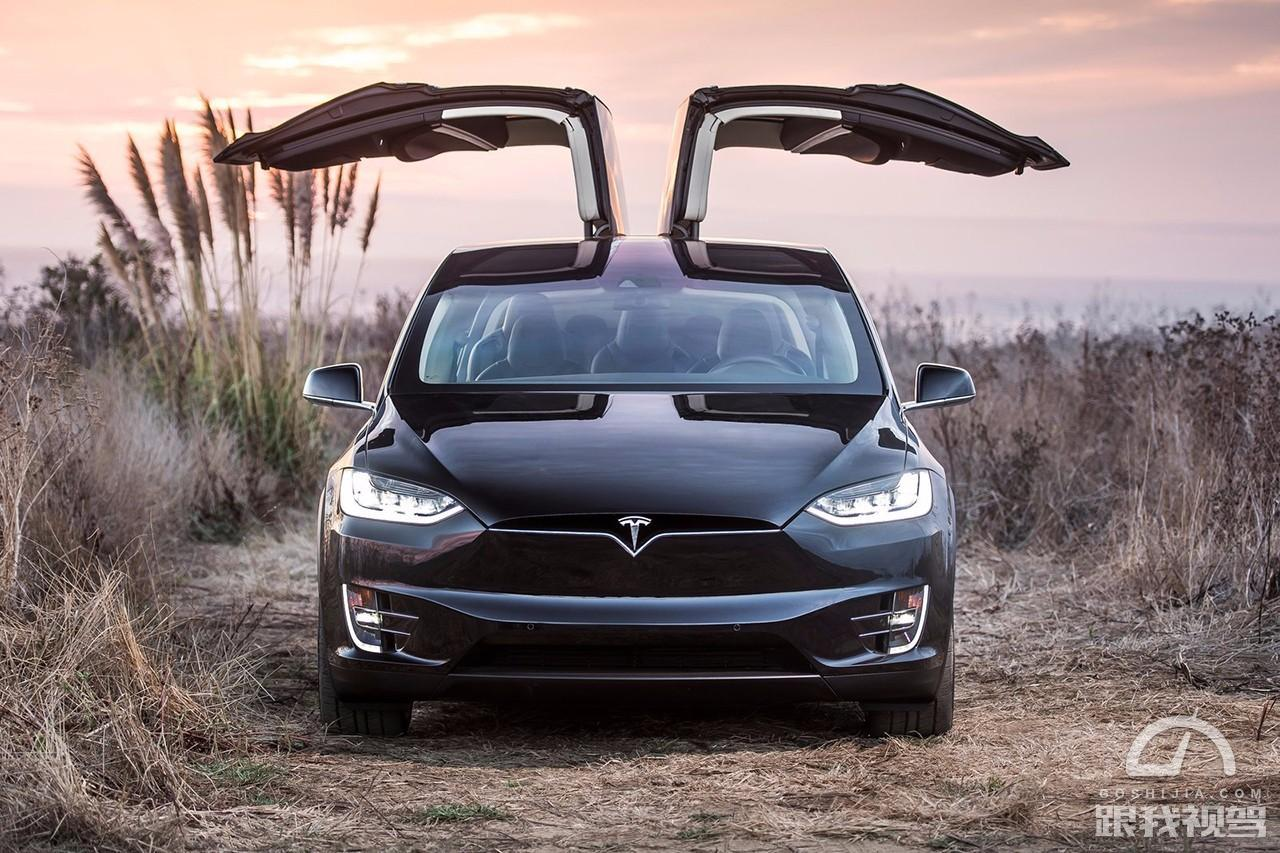Tesla: (617, 515, 652, 552)
